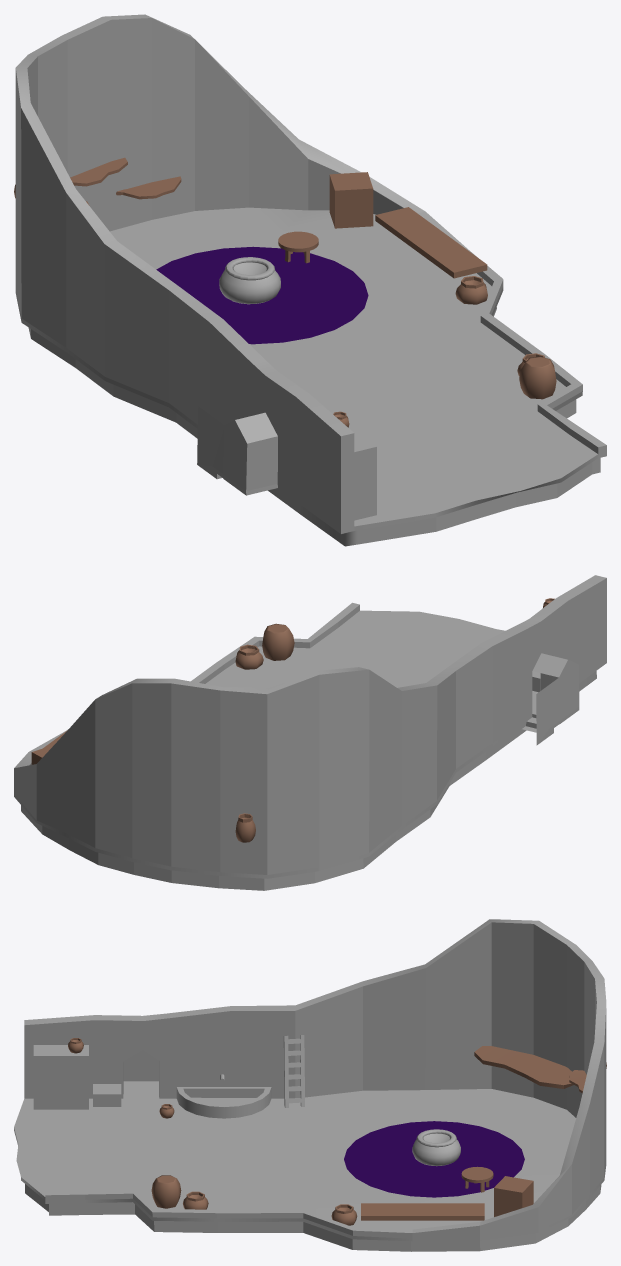
File: escenario_cocina.fbx
3 renders of one model, top to bottom at view 1: azimuth 30°, elevation 25°; view 2: azimuth 150°, elevation 25°; view 3: azimuth 270°, elevation 25°, orthographic. The views are drawn at different scales.
Parts seen in each view (by area): view 1: baseEScenario, alfombra, escritorio, caldero, silla, estanteria2, estanterias, barril_low:polySurface2, tinajas, mesa; view 2: baseEScenario, tinajas, barril_low:polySurface2; view 3: baseEScenario, alfombra, estanteria2, fuente, estanterias, escritorio, caldero, silla, tinajas, escalera1, barril_low:polySurface2, mesa.
Boxes of the visible parts, left/top/right/bottom form: baseEScenario: left=15, top=14, right=606, bottom=546; alfombra: left=156, top=246, right=368, bottom=344; escritorio: left=375, top=207, right=487, bottom=278; caldero: left=219, top=257, right=280, bottom=304; silla: left=329, top=172, right=373, bottom=228; estanteria2: left=348, top=426, right=376, bottom=520; estanterias: left=70, top=157, right=181, bottom=205; barril_low:polySurface2: left=519, top=356, right=556, bottom=399; tinajas: left=14, top=184, right=544, bottom=427; mesa: left=278, top=231, right=318, bottom=263; baseEScenario: left=14, top=575, right=606, bottom=890; tinajas: left=235, top=598, right=554, bottom=842; barril_low:polySurface2: left=262, top=623, right=294, bottom=660; baseEScenario: left=14, top=919, right=606, bottom=1251; alfombra: left=344, top=1121, right=524, bottom=1197; estanteria2: left=33, top=1045, right=121, bottom=1109; fuente: left=176, top=1074, right=271, bottom=1118; estanterias: left=474, top=1046, right=586, bottom=1093; escritorio: left=361, top=1203, right=484, bottom=1220; caldero: left=412, top=1129, right=460, bottom=1166; silla: left=494, top=1176, right=533, bottom=1216; tinajas: left=68, top=1038, right=606, bottom=1225; escalera1: left=283, top=1035, right=304, bottom=1107; barril_low:polySurface2: left=151, top=1175, right=181, bottom=1208; mesa: left=461, top=1166, right=493, bottom=1192.
Bounding box in the file's own units: 2.17 × 1.23 × 3.47.
